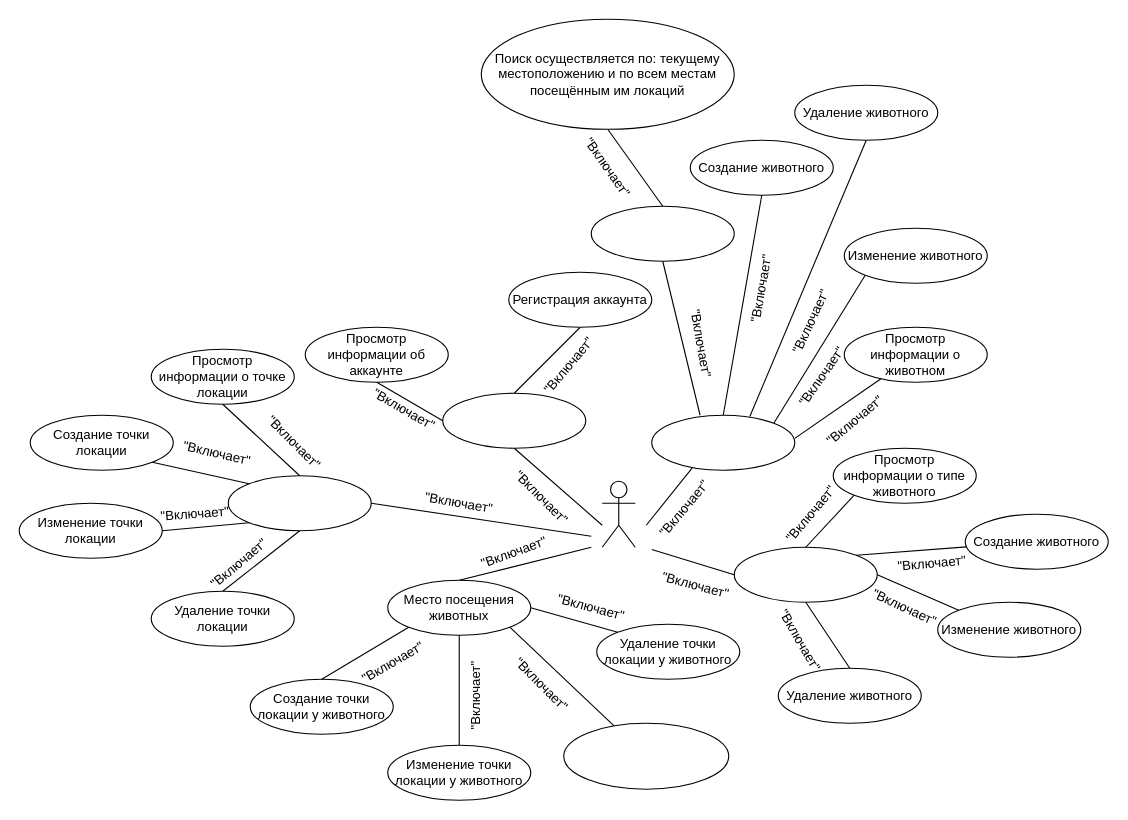
This 1128x820 diagram has some shape labels left out. Each missing label, with the centre of its shape:
"Аутентификация" belongs at (514,420).
"Животное" belongs at (723,442).
"Поиск животного" belongs at (662,233).
"Пользователь" belongs at (618,513).
"Просмотр информации о перемещении животного" belongs at (646,755).
"Тип животного" belongs at (805,574).
"Точка местоположения" belongs at (299,503).
